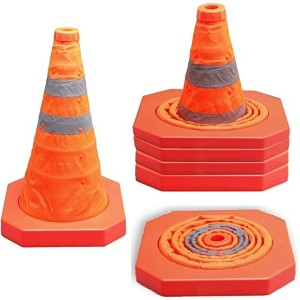traffic cone: (1, 27, 126, 247)
